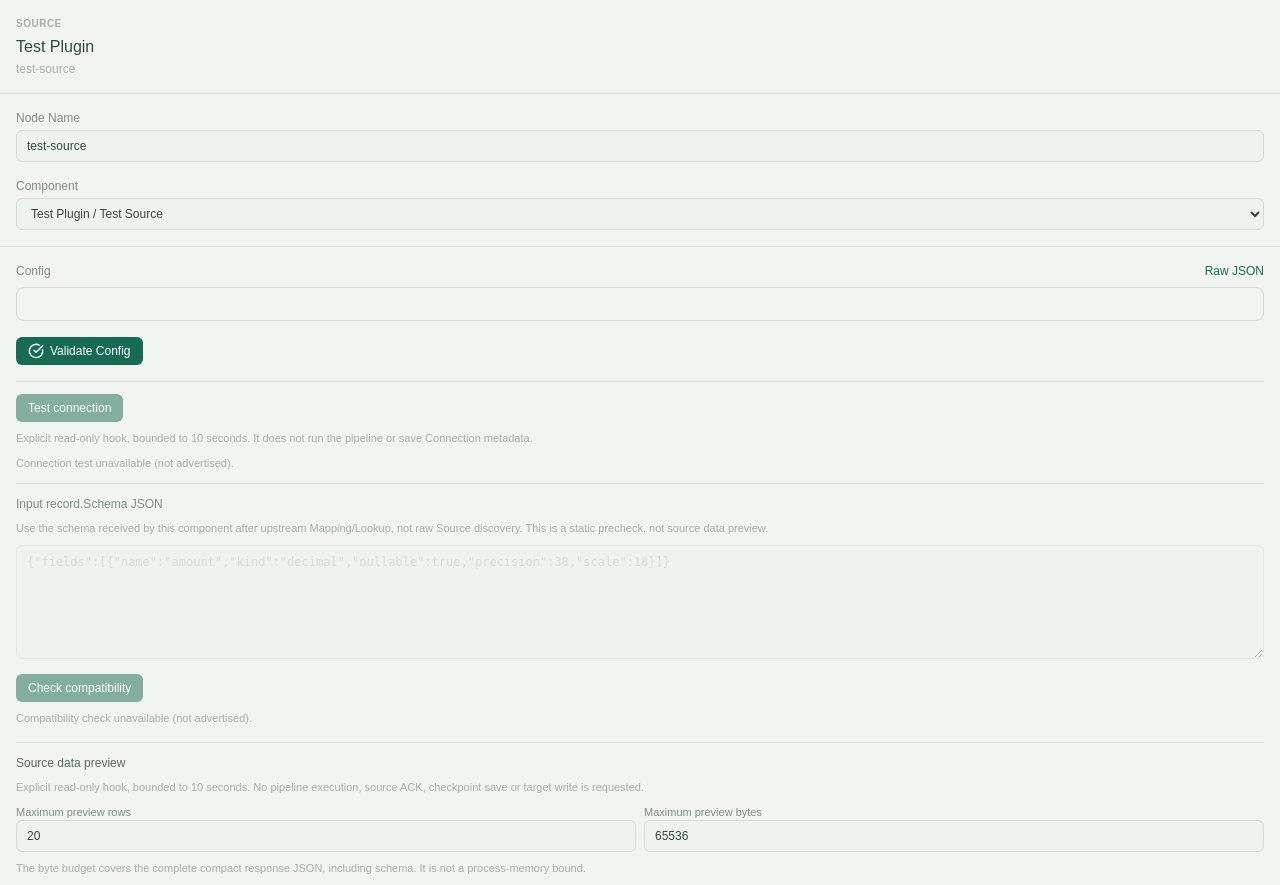
Scenario: ConfigPanel — ValidateConfig button › shows error message after invalid config
Click the button "Validate Config" at (79, 351), box [16,337,142,365]
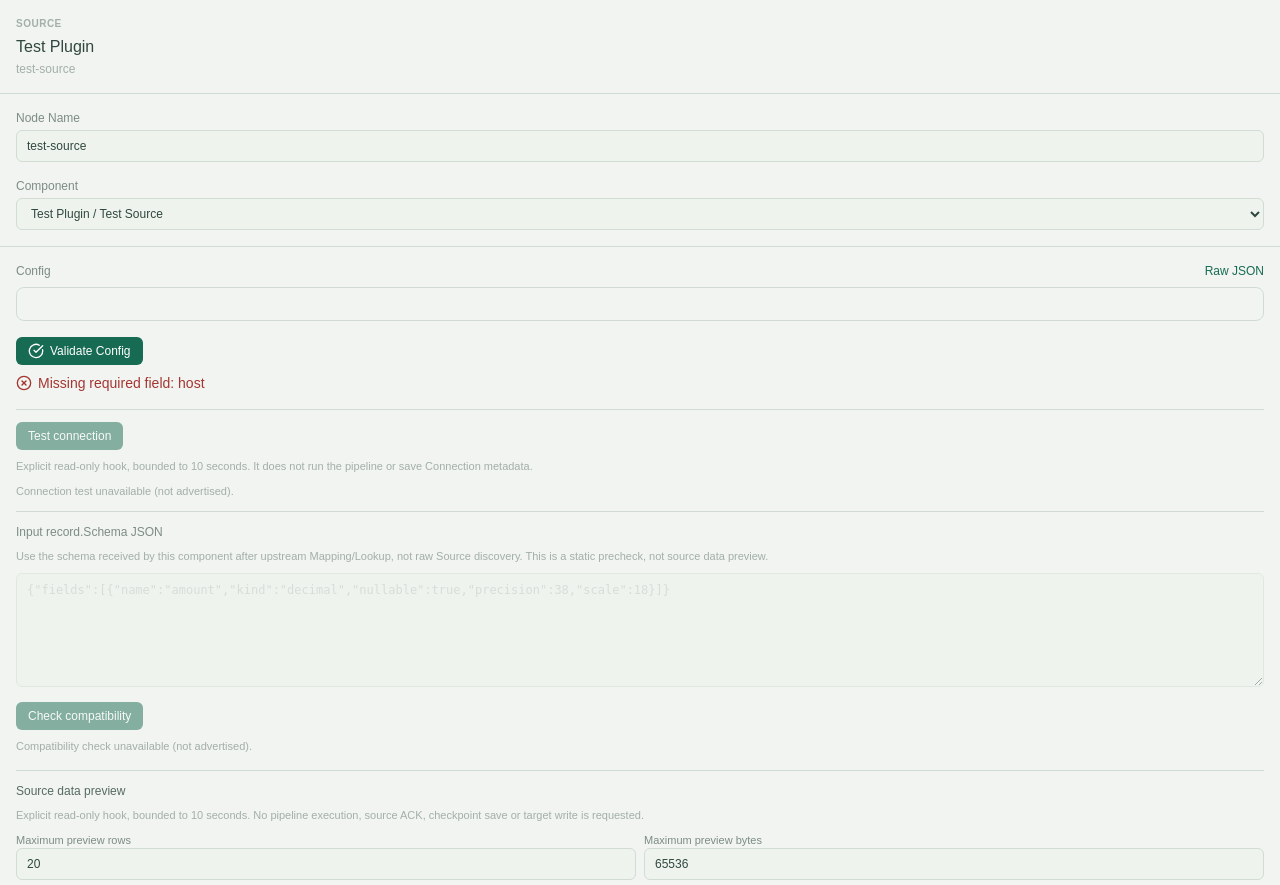
Expected: the text "Missing required field: host" is shown, [38,373,204,393]
